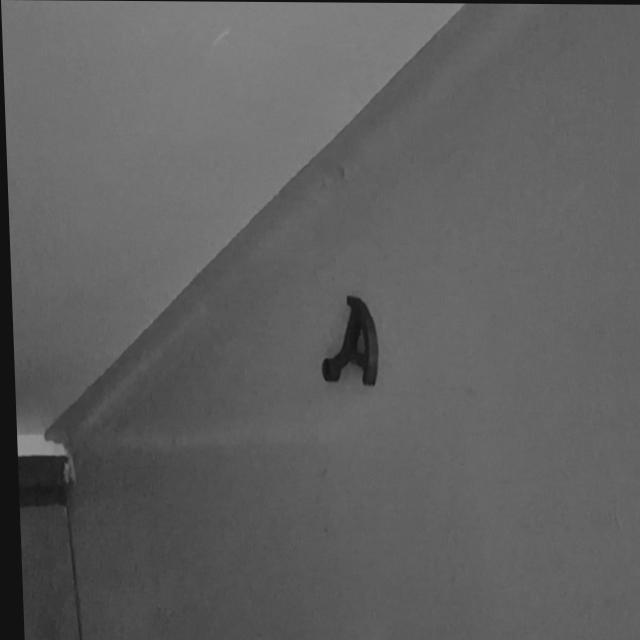haptic: (317, 294, 380, 388)
